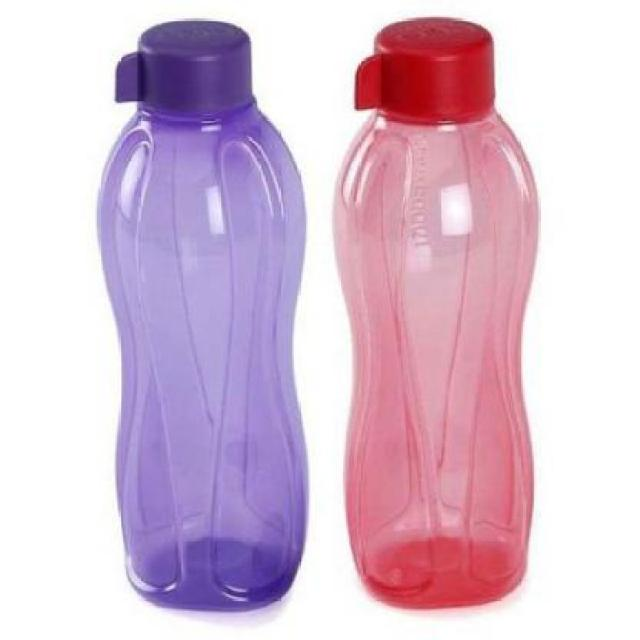Drinking: (324, 12, 548, 610), (87, 15, 309, 610)
